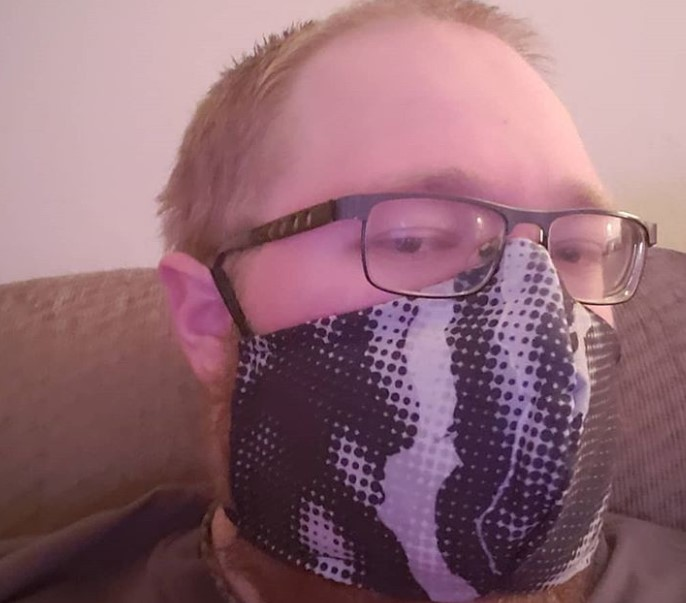face_with_mask: (156, 0, 661, 599)
